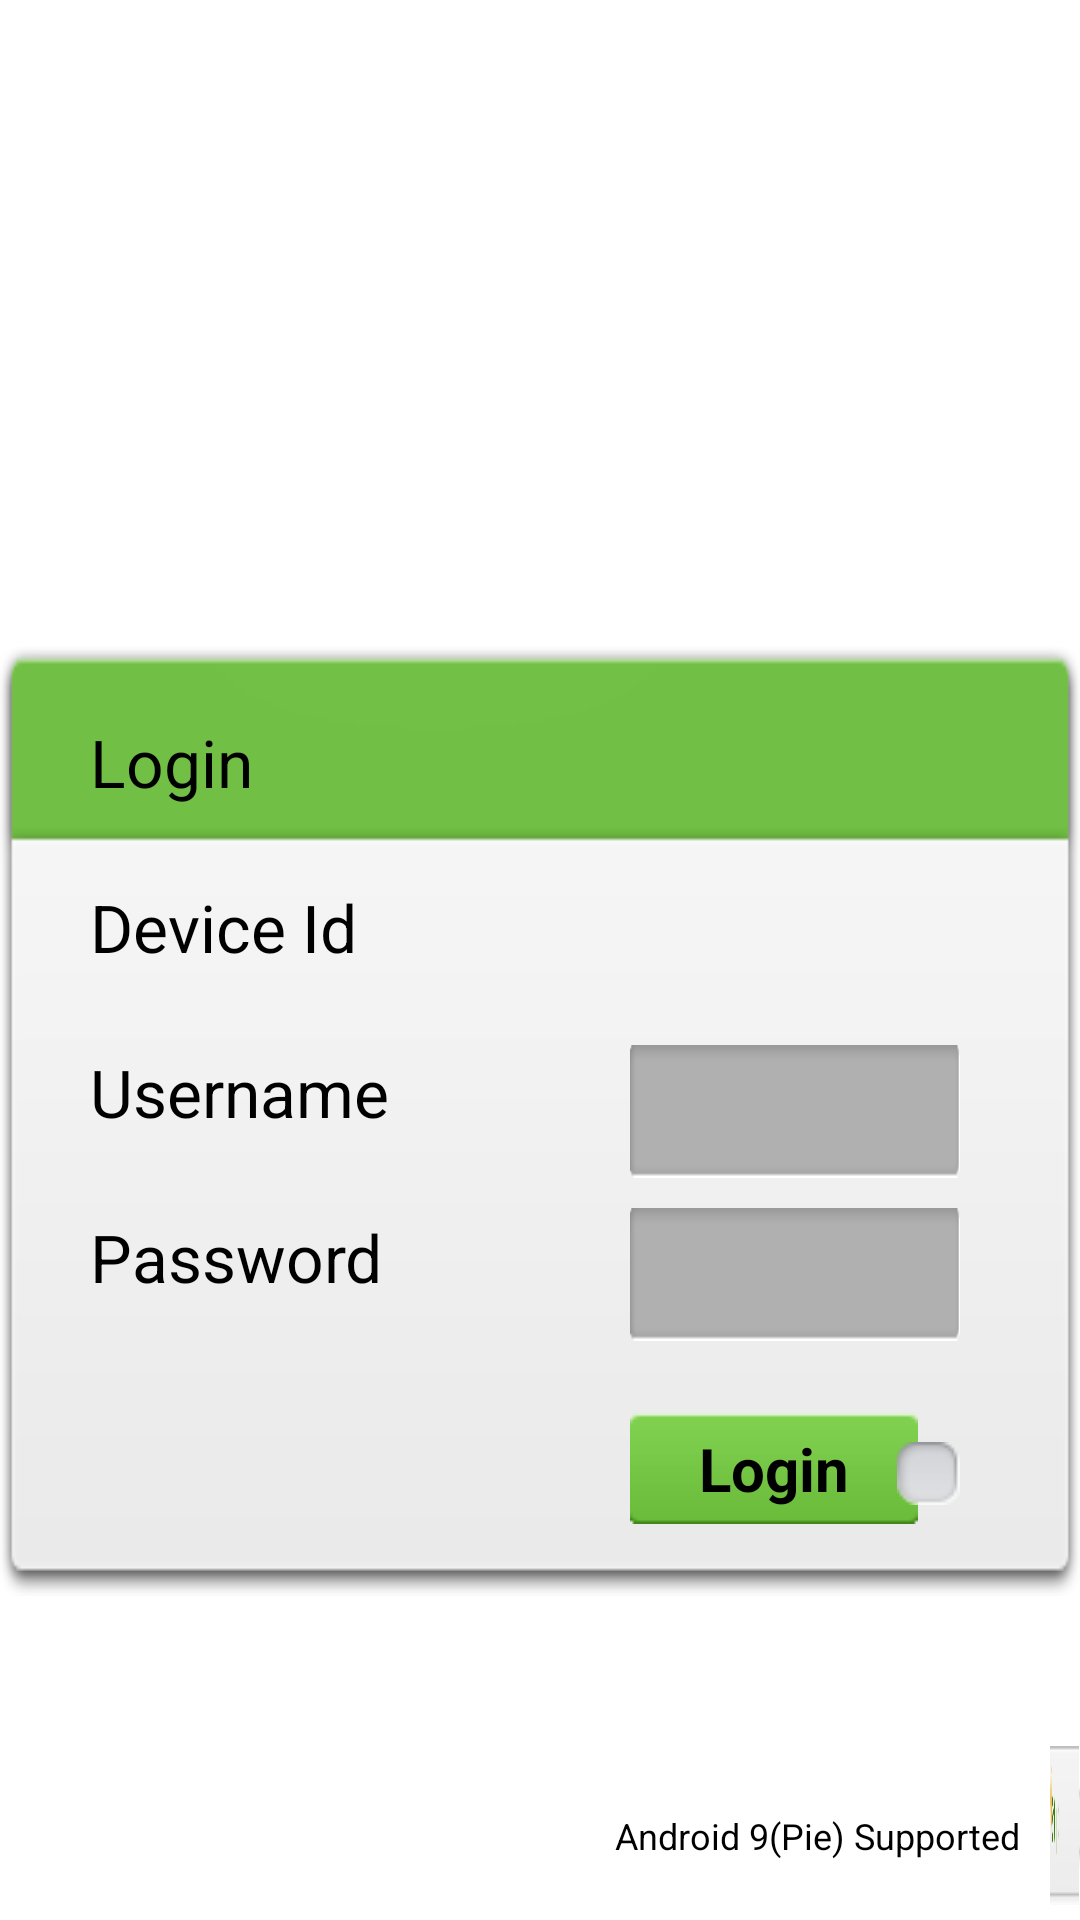

Screen size 1080×1920. Icon name, then its center in pixels as (x=x, y=y):
custome checkbox: (x=928, y=1473)
